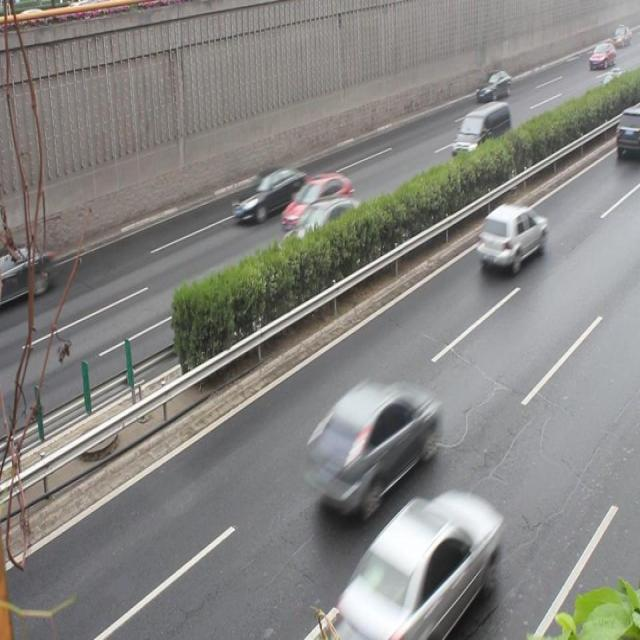car: (335, 486, 494, 629), (307, 377, 434, 506), (281, 197, 363, 268), (474, 199, 542, 269), (232, 162, 304, 220), (280, 171, 350, 230), (613, 104, 639, 160), (474, 66, 509, 105)
